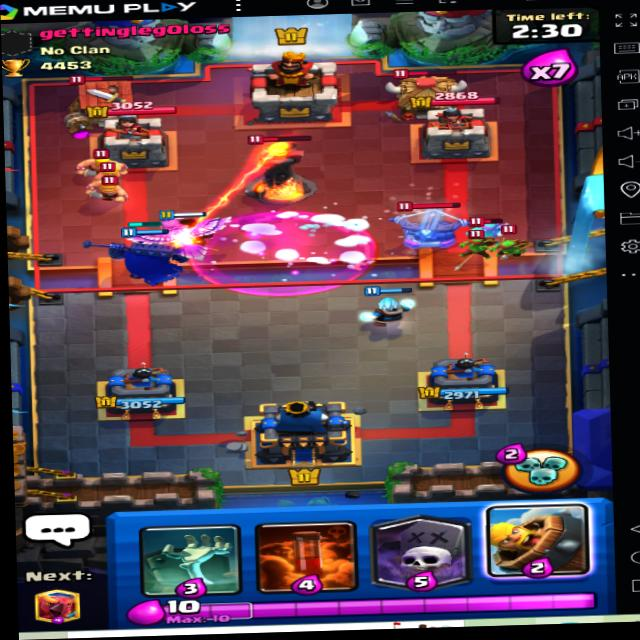Barbarian: (77, 146, 125, 177), (85, 173, 132, 204), (79, 163, 133, 188)
Barbarianhut: (63, 70, 142, 133)
Goblinhut: (387, 62, 470, 119)
Infernotower: (237, 131, 322, 203)
Speargoblin: (489, 236, 530, 260), (463, 232, 494, 257), (472, 216, 502, 238)
Xbow: (385, 191, 476, 248)
